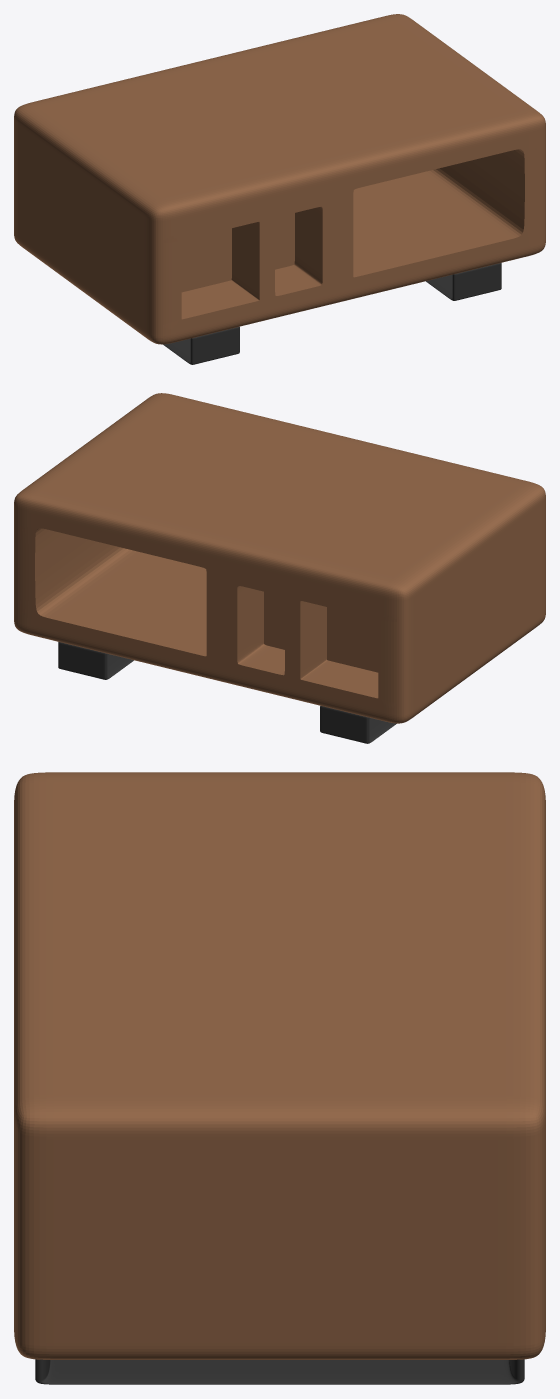
Rendered from compressed_LowTable.glb.
The picture shows the model from 3 angles, top to bottom: view 1: azimuth 30°, elevation 25°; view 2: azimuth 150°, elevation 25°; view 3: azimuth 270°, elevation 25°; orthographic projection. The views are drawn at different scales.
Parts seen in each view (by area): view 1: Cube.001, Cube.002; view 2: Cube.001, Cube.002; view 3: Cube.001, Cube.002.
Boxes of the visible parts, <box> form: Cube.001: <box>14,14,545,344</box>; Cube.002: <box>163,263,501,364</box>; Cube.001: <box>14,393,545,723</box>; Cube.002: <box>58,642,396,743</box>; Cube.001: <box>14,772,545,1359</box>; Cube.002: <box>35,1359,524,1384</box>.
Size of the model in its own units: 0.9877 by 0.4057 by 0.6338.
